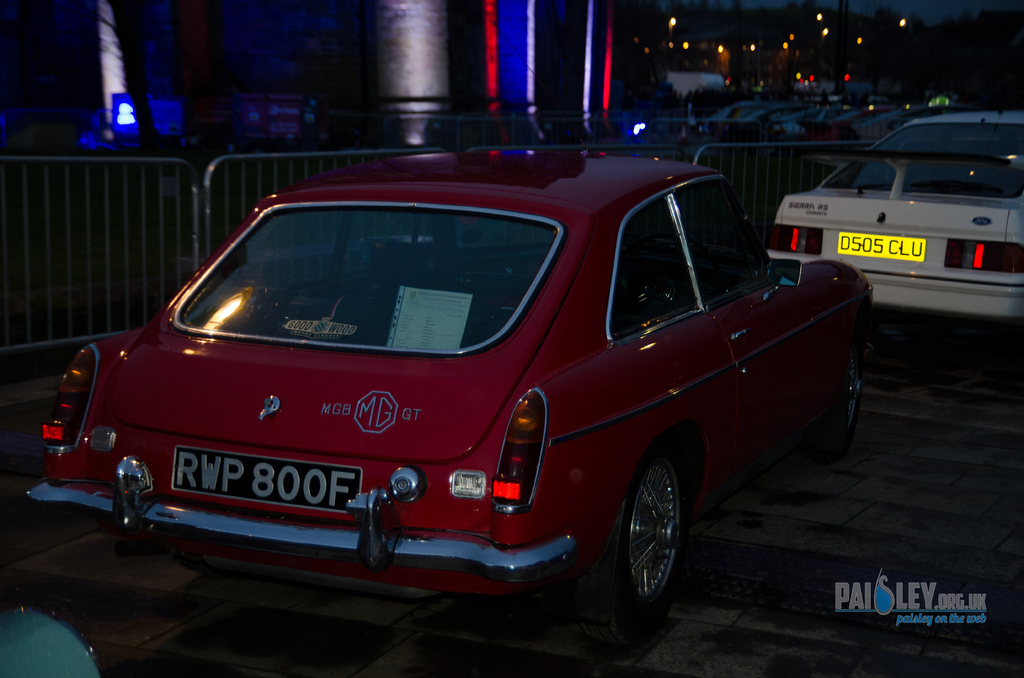Car: (47, 139, 831, 629), (769, 108, 1023, 327), (0, 599, 105, 677)
